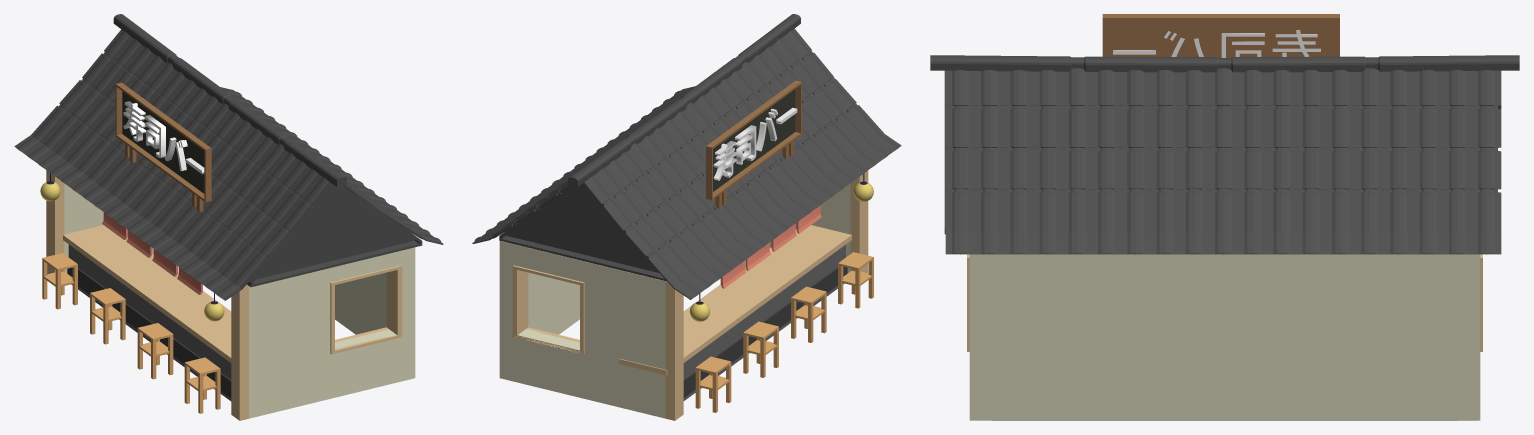
File: sushibar.fbx
3 views of the same model, side by side, from view 1: azimuth 30°, elevation 25°; view 2: azimuth 150°, elevation 25°; view 3: azimuth 270°, elevation 25° (orthographic). The views are drawn at different scales.
Visible parts, largest first — view 1: Cube.001, Cube.002, Cube, Cube.004, Cube.015, Cube.020, Text, Cube.005, Cube.016, Cube.007, Cube.012, Cube.006 (+2 smaller); view 2: Cube.001, Cube.002, Cube, Cube.004, Cube.015, Cube.020, Text, Cube.005, Cube.012, Cube.008, Cube.016, Cube.006 (+2 smaller); view 3: Cube.001, Cube.002, Cube.015, Text.
Boxes of the visible parts, <box> form: Cube.001: <box>14,14,443,300</box>; Cube.002: <box>46,170,415,420</box>; Cube: <box>63,225,231,362</box>; Cube.004: <box>68,244,231,401</box>; Cube.015: <box>115,82,211,212</box>; Cube.020: <box>122,91,204,193</box>; Text: <box>123,101,204,174</box>; Cube.005: <box>67,267,231,397</box>; Cube.016: <box>184,357,220,413</box>; Cube.007: <box>137,323,173,379</box>; Cube.012: <box>102,212,202,294</box>; Cube.006: <box>90,288,125,344</box>; Cube.001: <box>472,14,901,299</box>; Cube.002: <box>499,170,868,420</box>; Cube: <box>618,225,851,375</box>; Cube.004: <box>683,244,845,400</box>; Cube.015: <box>706,80,801,208</box>; Cube.020: <box>713,89,795,191</box>; Text: <box>713,107,797,180</box>; Cube.005: <box>683,266,847,397</box>; Cube.012: <box>720,205,821,288</box>; Cube.008: <box>695,356,731,412</box>; Cube.016: <box>838,252,873,308</box>; Cube.006: <box>743,321,778,377</box>; Cube.001: <box>930,55,1519,254</box>; Cube.002: <box>967,254,1482,420</box>; Cube.015: <box>1102,14,1339,57</box>; Text: <box>1113,30,1320,57</box>.
Size of the model in its own units: 624 by 628 by 1090.
